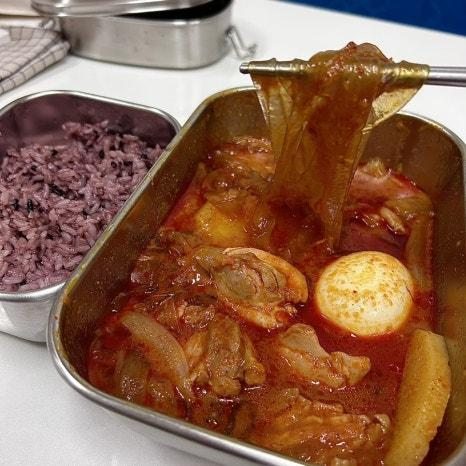Lunch Box: (47, 45, 465, 465), (0, 91, 178, 341), (32, 0, 255, 69)
